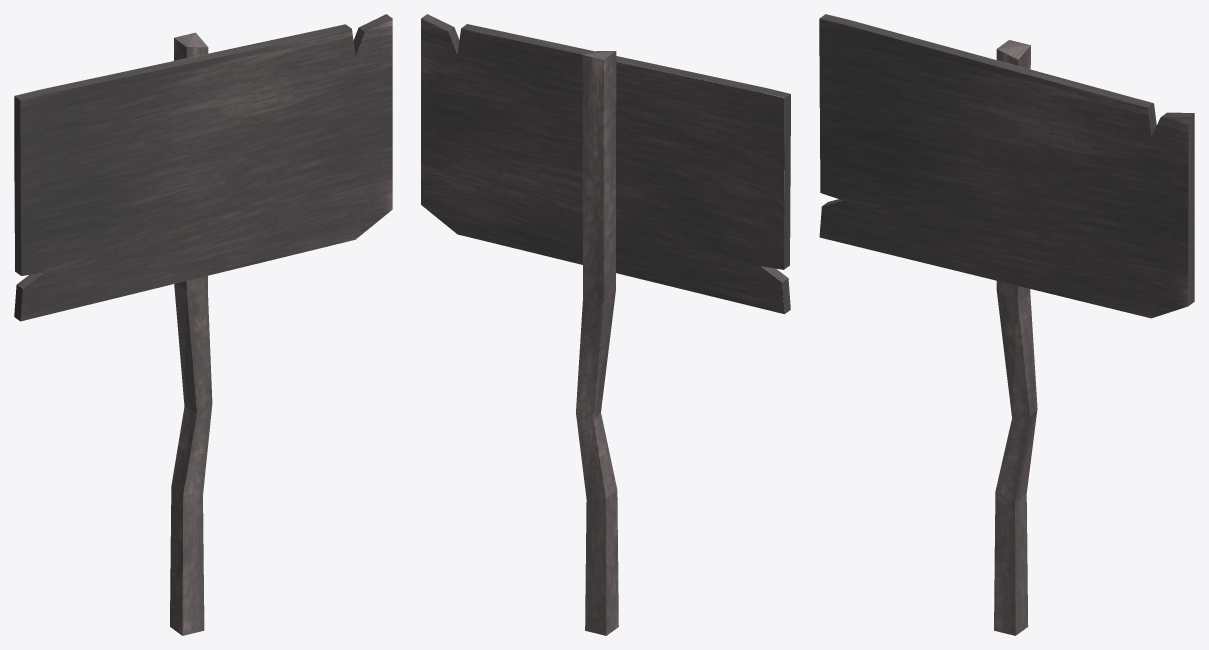
File: WoodenSign.obj
3 views of the same model, side by side, from view 1: azimuth 30°, elevation 25°; view 2: azimuth 150°, elevation 25°; view 3: azimuth 330°, elevation 25° (orthographic). The views are drawn at different scales.
Bounding box in the file's own units: 1.7 × 2.57 × 0.1613.
